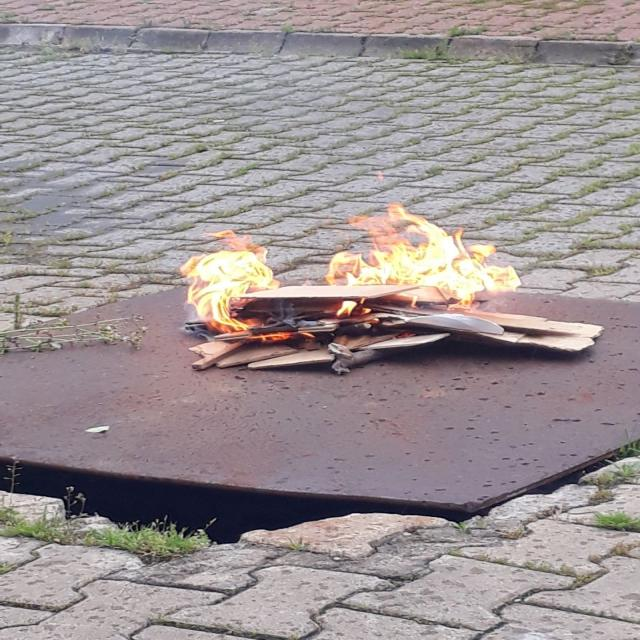fire: (147, 198, 560, 333)
